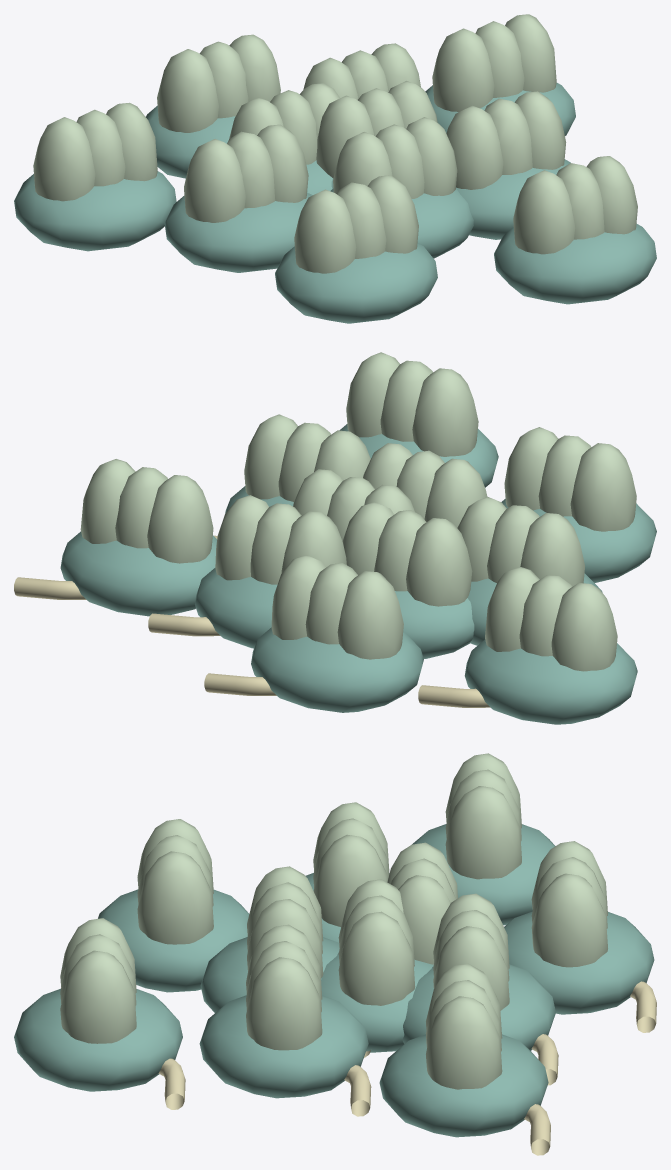
The model's file is bio_acid_mat_06_far.glb.
The picture shows the model from 3 angles, top to bottom: view 1: azimuth 30°, elevation 25°; view 2: azimuth 150°, elevation 25°; view 3: azimuth 270°, elevation 25°; orthographic projection. The views are drawn at different scales.
Parts seen in each view (by area): view 1: Reaction vesicle.030, Reaction vesicle.012, Reaction vesicle.021, Reaction vesicle.027, Reaction vesicle.024, Microbial cushion.010, Microbial cushion.007, Microbial cushion.009, Reaction vesicle.018, Reaction vesicle.015, Microbial cushion.004, Reaction vesicle.006 (+8 smaller); view 2: Reaction vesicle.024, Reaction vesicle.018, Reaction vesicle.027, Reaction vesicle.030, Reaction vesicle.021, Microbial cushion.009, Microbial cushion.006, Reaction vesicle.003, Microbial cushion.008, Reaction vesicle.009, Reaction vesicle.012, Reaction vesicle.015 (+11 smaller); view 3: Microbial cushion.010, Microbial cushion.005, Microbial cushion.008, Reaction vesicle.030, Reaction vesicle.015, Reaction vesicle.027, Reaction vesicle.021, Reaction vesicle.024, Reaction vesicle.018, Reaction vesicle, Microbial cushion.006, Microbial cushion.007 (+13 smaller).
Boxes of the visible parts, left/top/right/bottom form: Reaction vesicle.030: left=513, top=156, right=637, bottom=254; Reaction vesicle.012: left=184, top=124, right=308, bottom=222; Reaction vesicle.021: left=294, top=175, right=418, bottom=273; Reaction vesicle.027: left=33, top=102, right=157, bottom=201; Reaction vesicle.024: left=432, top=14, right=556, bottom=112; Microbial cushion.010: left=494, top=224, right=656, bottom=304; Microbial cushion.007: left=275, top=243, right=437, bottom=323; Microbial cushion.009: left=14, top=171, right=176, bottom=251; Reaction vesicle.018: left=157, top=34, right=280, bottom=132; Reaction vesicle.015: left=446, top=91, right=566, bottom=189; Microbial cushion.004: left=164, top=192, right=312, bottom=272; Reaction vesicle.006: left=333, top=117, right=457, bottom=198; Reaction vesicle.024: left=80, top=459, right=213, bottom=563; Reaction vesicle.018: left=271, top=555, right=403, bottom=659; Reaction vesicle.027: left=485, top=566, right=617, bottom=671; Reaction vesicle.030: left=346, top=352, right=478, bottom=456; Reaction vesicle.021: left=504, top=427, right=636, bottom=531; Microbial cushion.009: left=464, top=639, right=637, bottom=724; Microbial cushion.006: left=251, top=627, right=423, bottom=712; Reaction vesicle.003: left=342, top=502, right=472, bottom=606; Microbial cushion.008: left=60, top=531, right=217, bottom=616; Reaction vesicle.009: left=215, top=495, right=346, bottom=584; Reaction vesicle.012: left=457, top=496, right=584, bottom=586; Reaction vesicle.015: left=244, top=414, right=370, bottom=501; Microbial cushion.010: left=14, top=988, right=182, bottom=1091; Microbial cushion.005: left=199, top=995, right=368, bottom=1098; Microbial cushion.008: left=379, top=1034, right=548, bottom=1137; Reaction vesicle.030: left=60, top=918, right=136, bottom=1043; Reaction vesicle.015: left=246, top=924, right=322, bottom=1050; Reaction vesicle.027: left=445, top=753, right=521, bottom=879; Reaction vesicle.021: left=137, top=819, right=213, bottom=944; Reaction vesicle.024: left=425, top=963, right=502, bottom=1089; Reaction vesicle.018: left=531, top=841, right=607, bottom=967; Reaction vesicle: left=338, top=879, right=415, bottom=1005; Microbial cushion.006: left=504, top=912, right=654, bottom=1014; Microbial cushion.007: left=98, top=889, right=249, bottom=992.
Bounding box in the file's own units: 1.83 × 0.3999 × 1.67.
